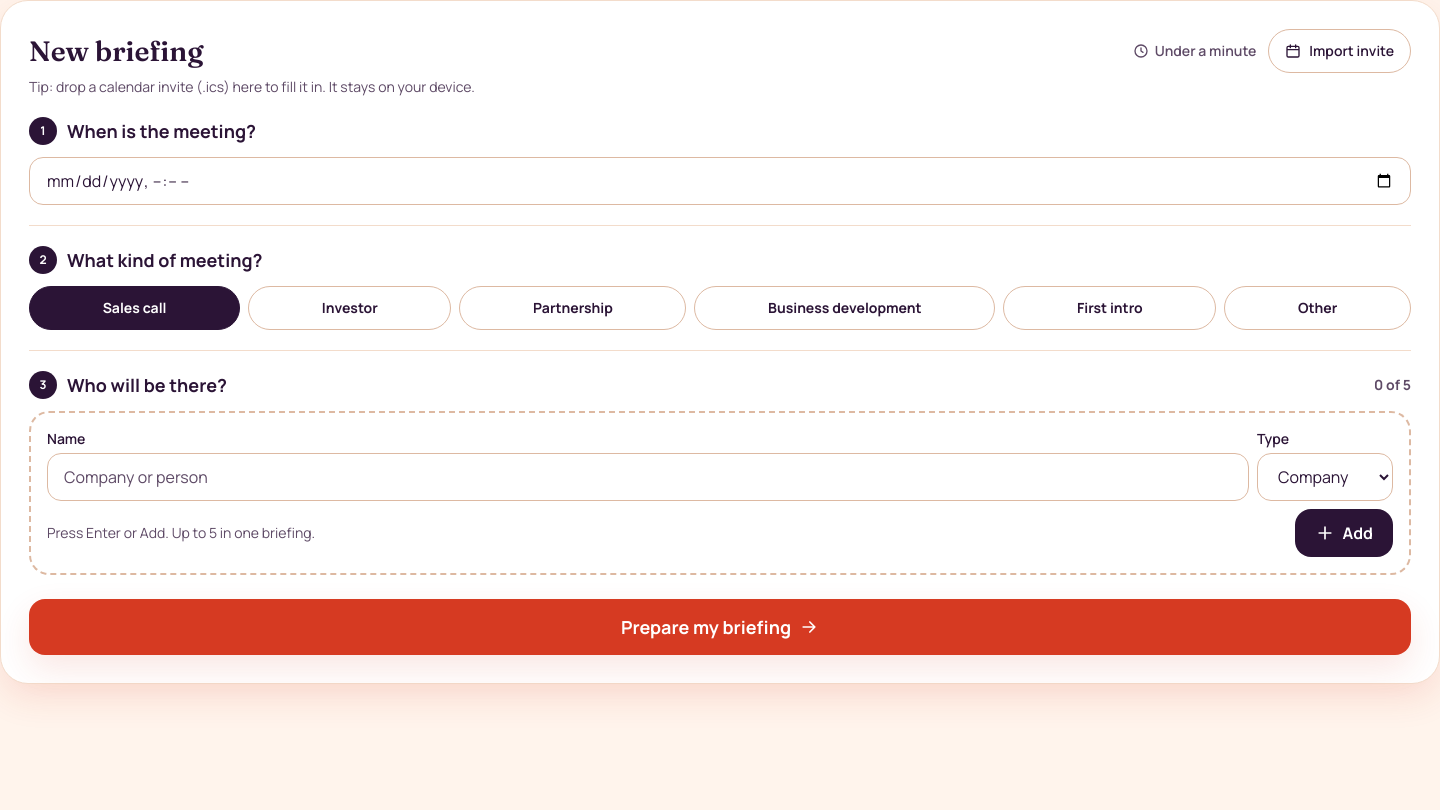
Test: BriefingForm › adds on Enter, returns focus to the name field and announces the change
Step 1. Type "Northwind Freight" into the field labelled "Name" → (648, 477), box [47,453,1249,501]
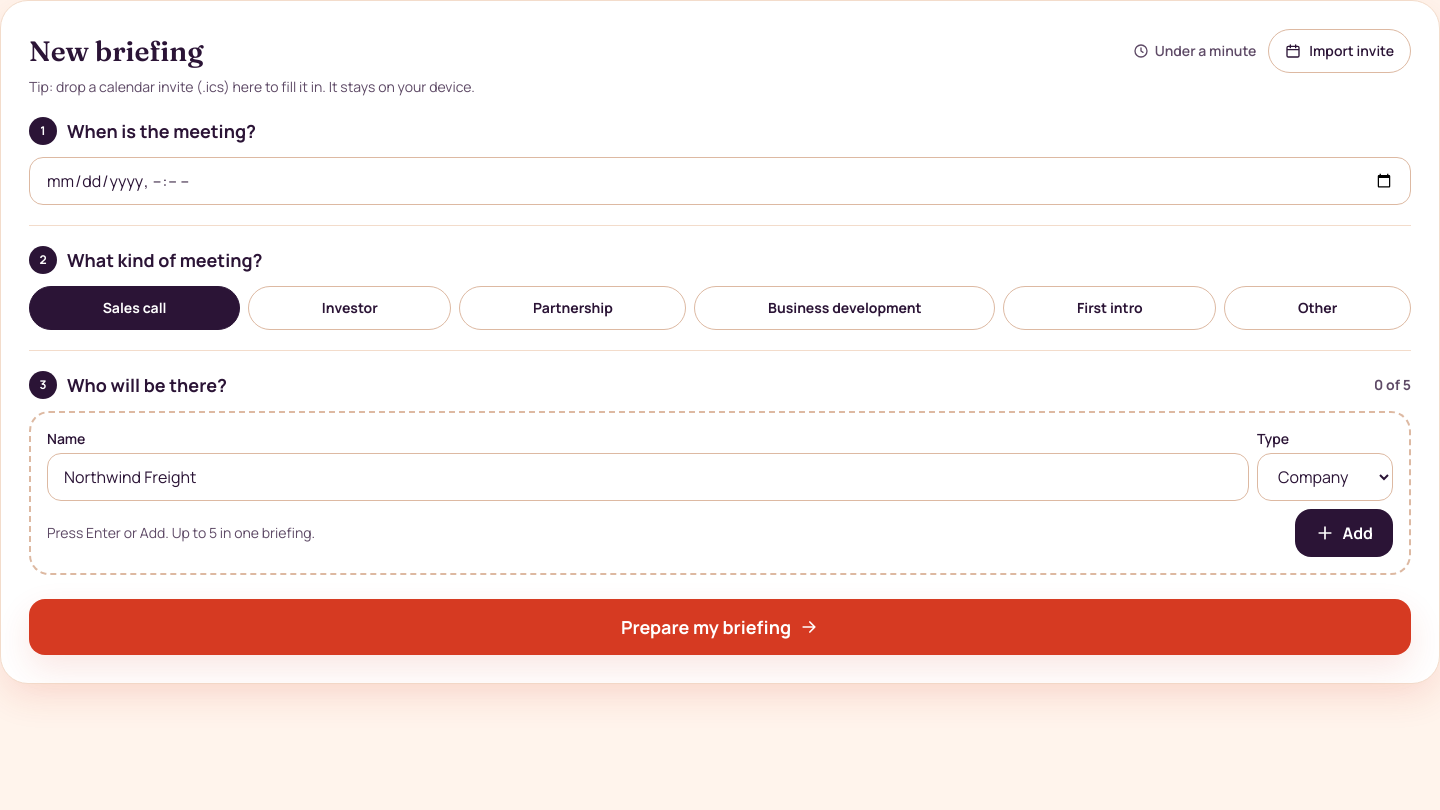
Step 2. Press Enter in the field labelled "Name", box [47,453,1249,501]
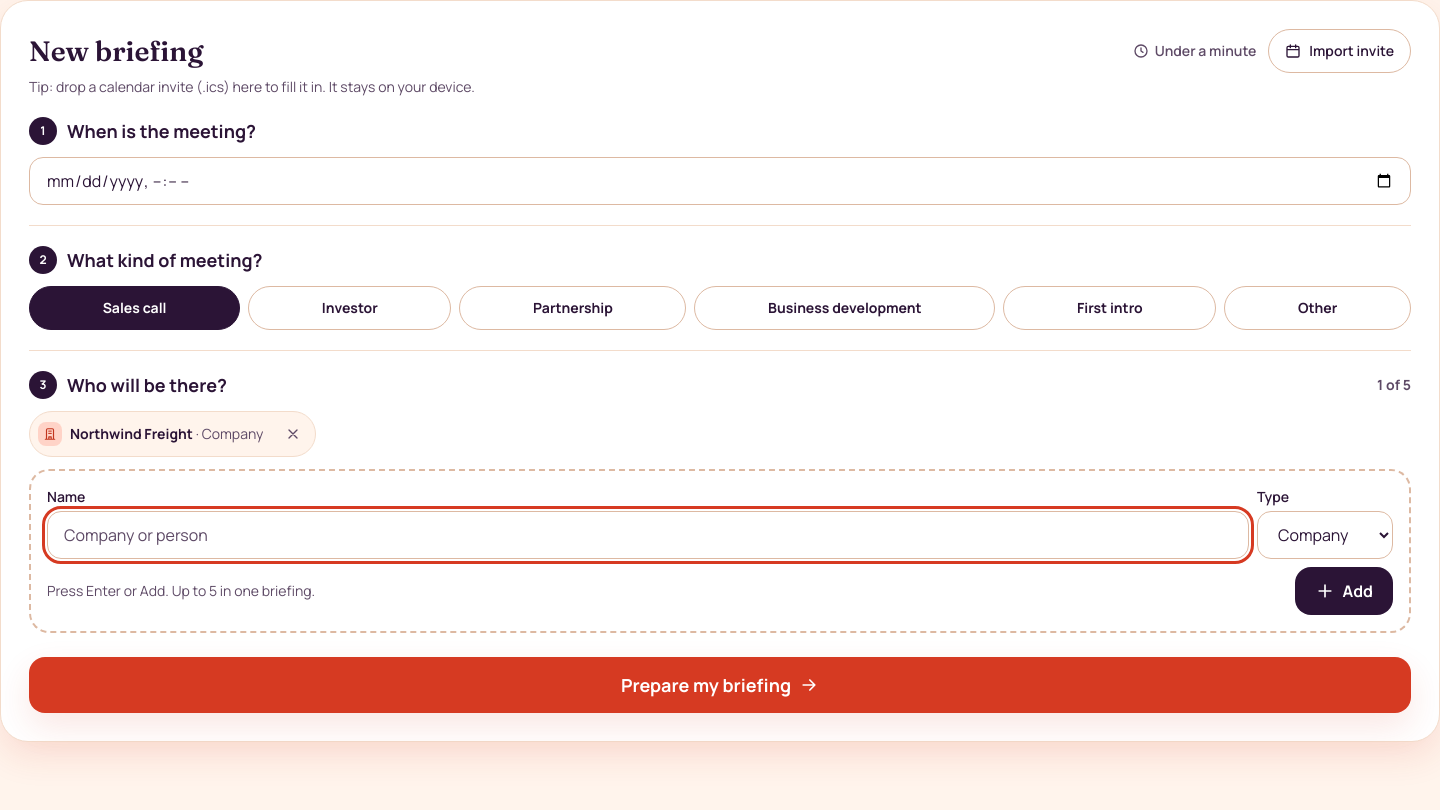
Expected: the text "Northwind Freight" is shown, [70,424,193,443]
Expected: the field labelled "Name" is empty, [47,511,1249,559]
Expected: the text "1 of 5" is shown, [1377,375,1411,395]
